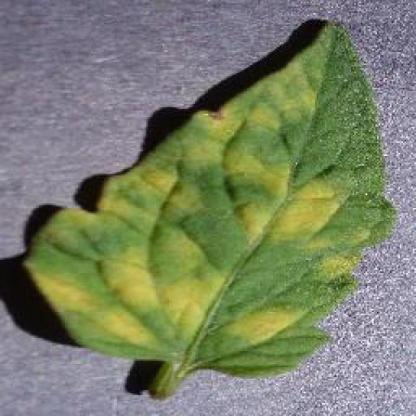Tomato_Leaf_Mold: (26, 35, 394, 373)
